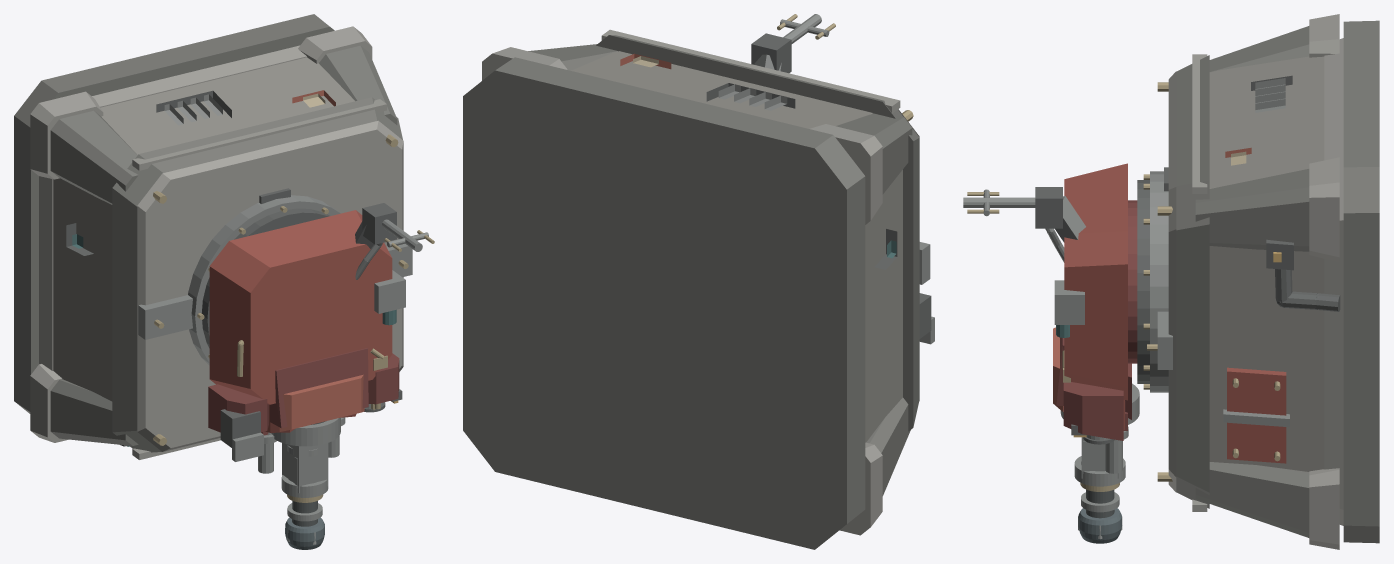
The model's file is martian_heavy_weapon_bunker_source_geometry_v06.glb.
3 renders of one model, left to right at view 1: azimuth 30°, elevation 25°; view 2: azimuth 150°, elevation 25°; view 3: azimuth 270°, elevation 25°, orthographic. The views are drawn at different scales.
Parts seen in each view (by area): view 1: 05_top_concrete_skin, 16_martian_red_turret_armor, 03_monolithic_bunker_mass, 01_foundation_granular_ferrocrete, 04_upper_blast_cap, 02_lower_blast_raft, 06_corner_armor_buttress_WN, 06_corner_armor_buttress_WS, 13_ring_lower_bearing_seat, 19_roof_to_mantlet_transition, 19_mantlet_upper_brow, 07_corner_buttress_foot_WN (+18 smaller); view 2: 01_foundation_granular_ferrocrete, 03_monolithic_bunker_mass, 04_upper_blast_cap, 07_corner_buttress_foot_WN, 06_corner_armor_buttress_WN, 06_corner_armor_buttress_WS, 07_corner_buttress_foot_WS, 54_north_slab_anchor_strip, 31_antenna_base, 06_corner_armor_buttress_EN, 07_corner_buttress_foot_EN; view 3: 03_monolithic_bunker_mass, 01_foundation_granular_ferrocrete, 04_upper_blast_cap, 16_martian_red_turret_armor, 06_corner_armor_buttress_EN, 02_lower_blast_raft, 06_corner_armor_buttress_ES, 55_east_wall_controller_armor, 05_top_concrete_skin, 13_ring_lower_bearing_seat, 07_corner_buttress_foot_EN, 18_turret_front_cheek_E (+20 smaller).
Boxes of the visible parts, bbox=[...] form: 05_top_concrete_skin: bbox=[137, 120, 403, 451]; 16_martian_red_turret_armor: bbox=[209, 210, 392, 404]; 03_monolithic_bunker_mass: bbox=[53, 57, 354, 401]; 01_foundation_granular_ferrocrete: bbox=[14, 14, 334, 413]; 04_upper_blast_cap: bbox=[112, 97, 402, 452]; 02_lower_blast_raft: bbox=[39, 45, 306, 370]; 06_corner_armor_buttress_WN: bbox=[50, 110, 138, 204]; 06_corner_armor_buttress_WS: bbox=[50, 379, 138, 445]; 13_ring_lower_bearing_seat: bbox=[188, 195, 340, 365]; 19_roof_to_mantlet_transition: bbox=[270, 348, 368, 428]; 19_mantlet_upper_brow: bbox=[279, 374, 364, 431]; 07_corner_buttress_foot_WN: bbox=[30, 91, 103, 179]; 01_foundation_granular_ferrocrete: bbox=[463, 57, 865, 549]; 03_monolithic_bunker_mass: bbox=[571, 51, 902, 442]; 04_upper_blast_cap: bbox=[596, 35, 919, 431]; 07_corner_buttress_foot_WN: bbox=[809, 124, 882, 224]; 06_corner_armor_buttress_WN: bbox=[836, 113, 912, 194]; 06_corner_armor_buttress_WS: bbox=[866, 397, 910, 495]; 07_corner_buttress_foot_WS: bbox=[839, 442, 882, 535]; 54_north_slab_anchor_strip: bbox=[601, 29, 900, 113]; 31_antenna_base: bbox=[751, 33, 791, 73]; 06_corner_armor_buttress_EN: bbox=[528, 44, 617, 70]; 07_corner_buttress_foot_EN: bbox=[482, 47, 567, 80]; 03_monolithic_bunker_mass: bbox=[1209, 56, 1324, 471]; 01_foundation_granular_ferrocrete: bbox=[1343, 20, 1379, 543]; 04_upper_blast_cap: bbox=[1176, 55, 1209, 508]; 16_martian_red_turret_armor: bbox=[1064, 163, 1127, 400]; 06_corner_armor_buttress_EN: bbox=[1195, 169, 1309, 251]; 02_lower_blast_raft: bbox=[1324, 38, 1343, 525]; 06_corner_armor_buttress_ES: bbox=[1195, 462, 1309, 537]; 55_east_wall_controller_armor: bbox=[1227, 367, 1286, 463]; 05_top_concrete_skin: bbox=[1168, 71, 1176, 492]; 13_ring_lower_bearing_seat: bbox=[1150, 171, 1168, 392]; 07_corner_buttress_foot_EN: bbox=[1309, 157, 1339, 262]; 18_turret_front_cheek_E: bbox=[1063, 382, 1123, 440].
Size of the model in its own units: 3.04 by 3.53 by 3.01.
